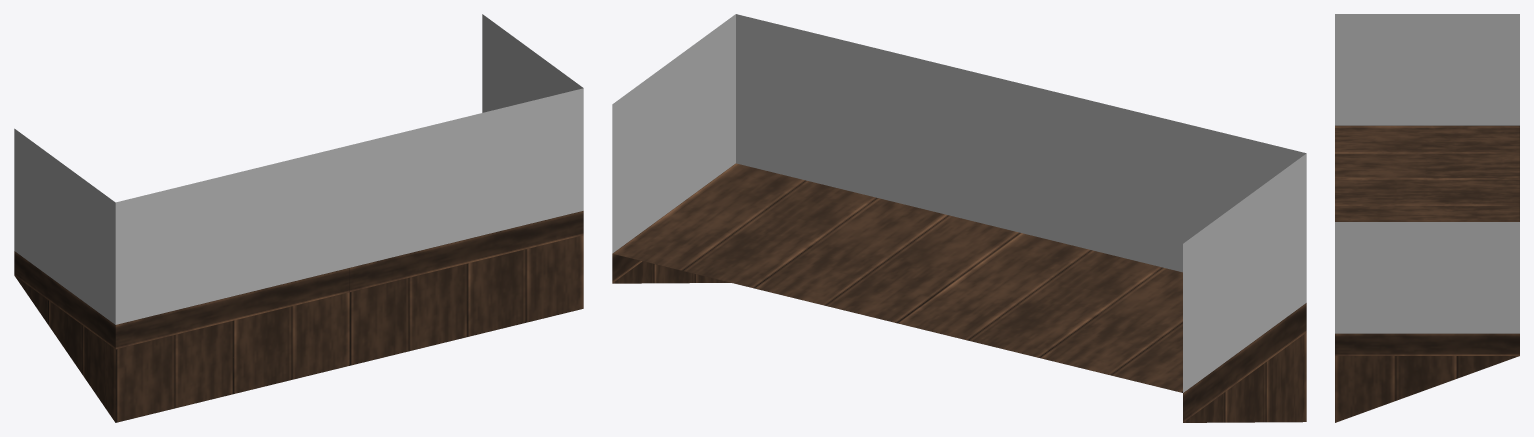
Rendered from house_balcony_4x1.fbx.
The picture shows the model from 3 angles, left to right: view 1: azimuth 30°, elevation 25°; view 2: azimuth 150°, elevation 25°; view 3: azimuth 270°, elevation 25°; orthographic projection. The views are drawn at different scales.
Visible parts, largest first — view 1: house_balcony_4x1; view 2: house_balcony_4x1; view 3: house_balcony_4x1.
Part boxes in pixels (x1,y1,x2,y2): house_balcony_4x1: [14, 14, 583, 422]; house_balcony_4x1: [612, 14, 1306, 422]; house_balcony_4x1: [1335, 14, 1519, 422].
Size of the model in its own units: 400 by 180 by 150.
